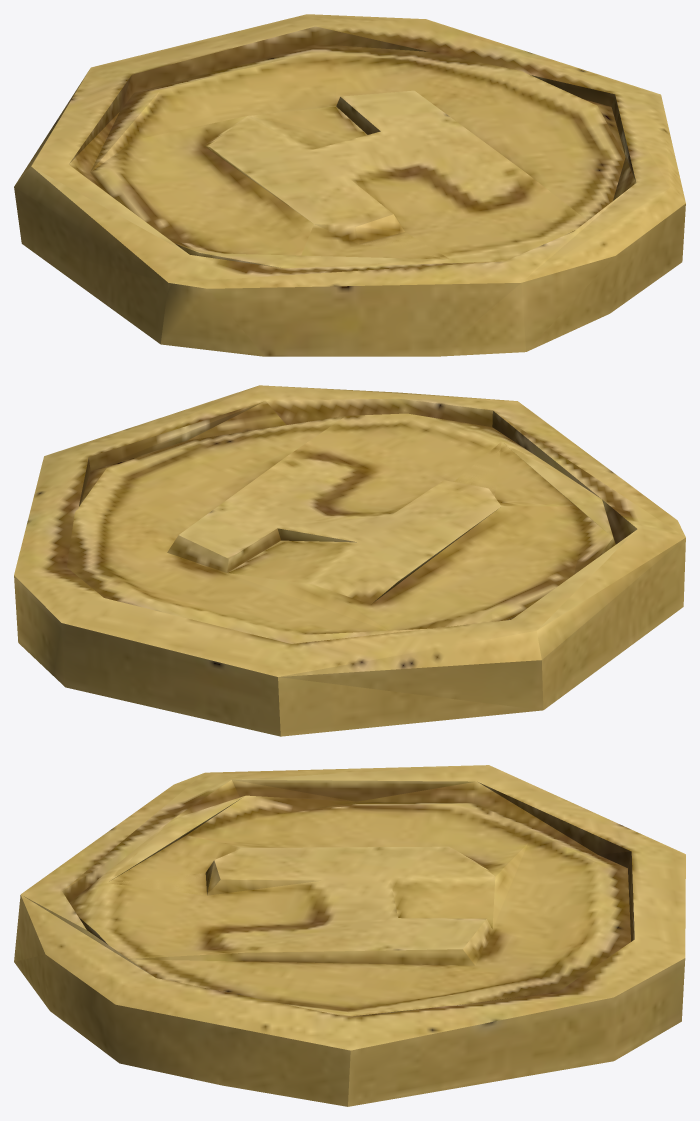
File: res.currency.glb
3 views of the same model, one above another, from view 1: azimuth 30°, elevation 25°; view 2: azimuth 150°, elevation 25°; view 3: azimuth 270°, elevation 25° (orthographic).
Visible parts, largest first — view 1: body; view 2: body; view 3: body.
Boxes of the visible parts, x1,y1,x2,y2 form: body: (14, 14, 685, 356); body: (14, 385, 685, 736); body: (14, 765, 685, 1106).
Bounding box in the file's own units: 0.2912 × 0.0373 × 0.2985.
Materials: 1 (1 with a texture image).
